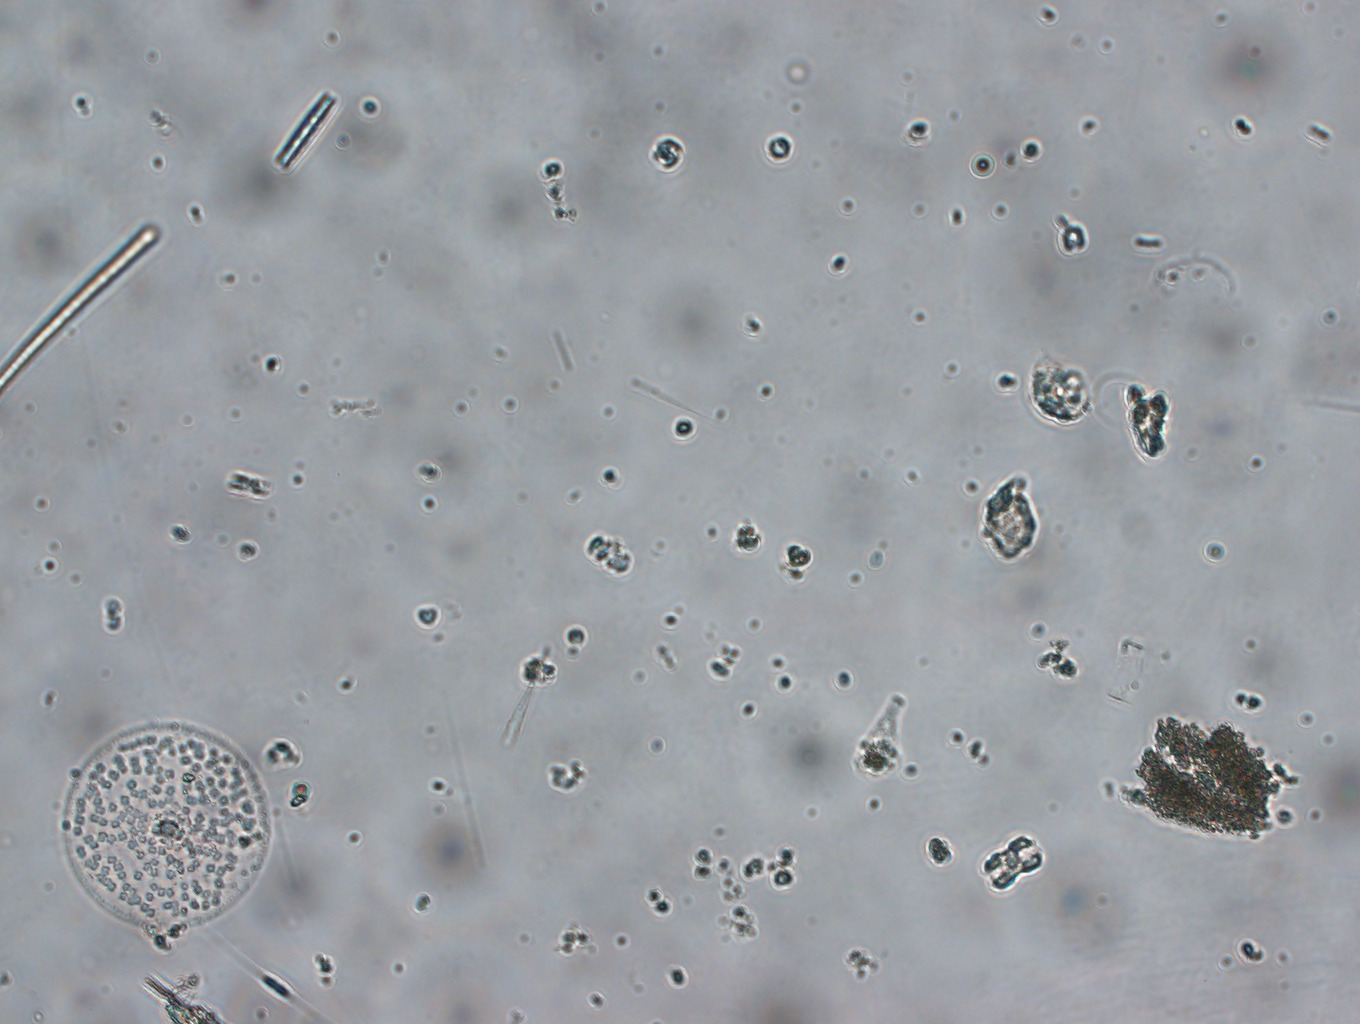coscinodiscus: (54, 719, 277, 936)
